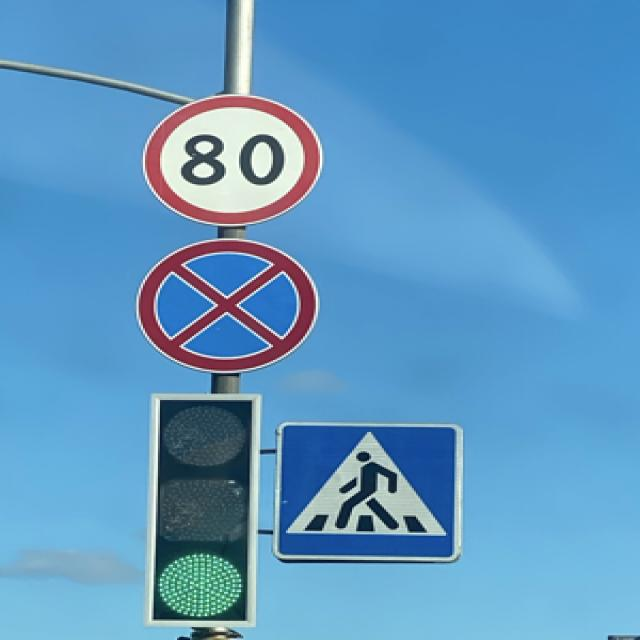crosswalk: (271, 419, 461, 560)
speedlimit: (139, 92, 322, 226)
trafficlight: (143, 392, 258, 626)
